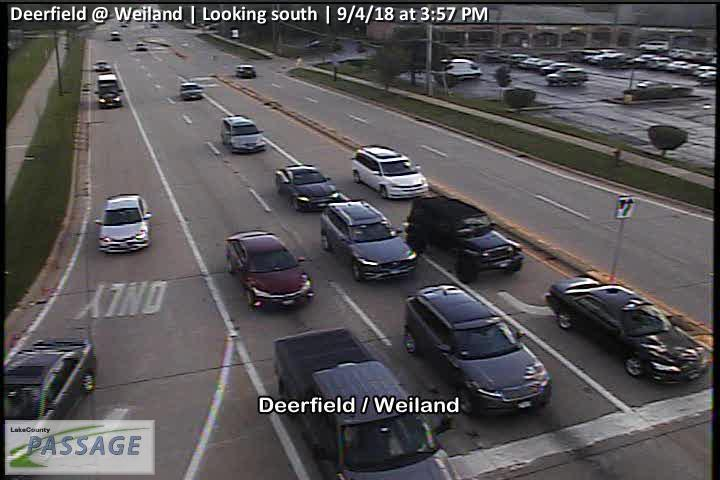SUV: (403, 284, 551, 413), (406, 196, 524, 283), (320, 200, 416, 282), (350, 146, 429, 201), (220, 116, 266, 155), (545, 66, 587, 85), (540, 62, 576, 78), (109, 31, 120, 40)
Sedan: (544, 276, 708, 384), (1, 338, 98, 450), (225, 231, 317, 311), (92, 193, 153, 253), (274, 165, 342, 212), (180, 81, 203, 101), (235, 64, 256, 79), (94, 59, 110, 72), (135, 42, 147, 51)
Truck: (274, 326, 459, 480), (94, 74, 124, 108)
